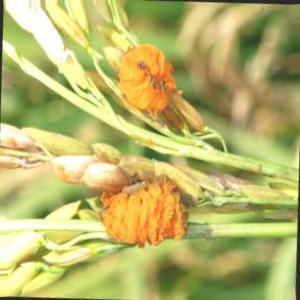False Smut: (108, 187, 194, 242), (108, 51, 179, 115)
